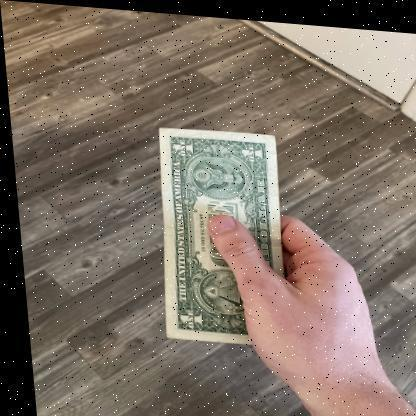one-back: (147, 122, 291, 344)
